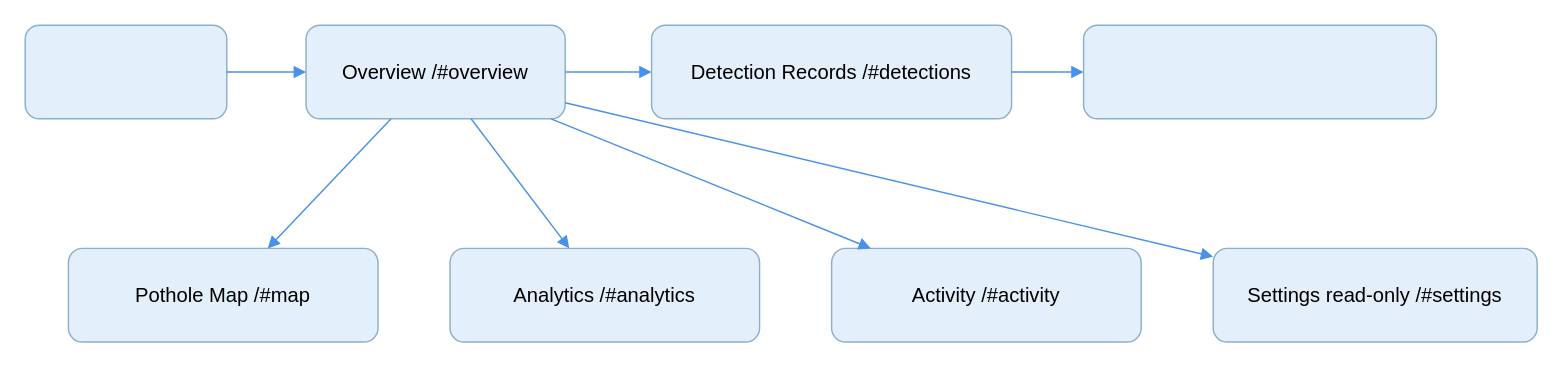
This 1562x367 diagram has some shape labels left out. The box of each missing label's shape, as (x1, y1, x2, y2) in pixels:
Open dashboard /: (24, 24, 227, 119)
Records/empty/error + retry: (1082, 24, 1436, 119)
